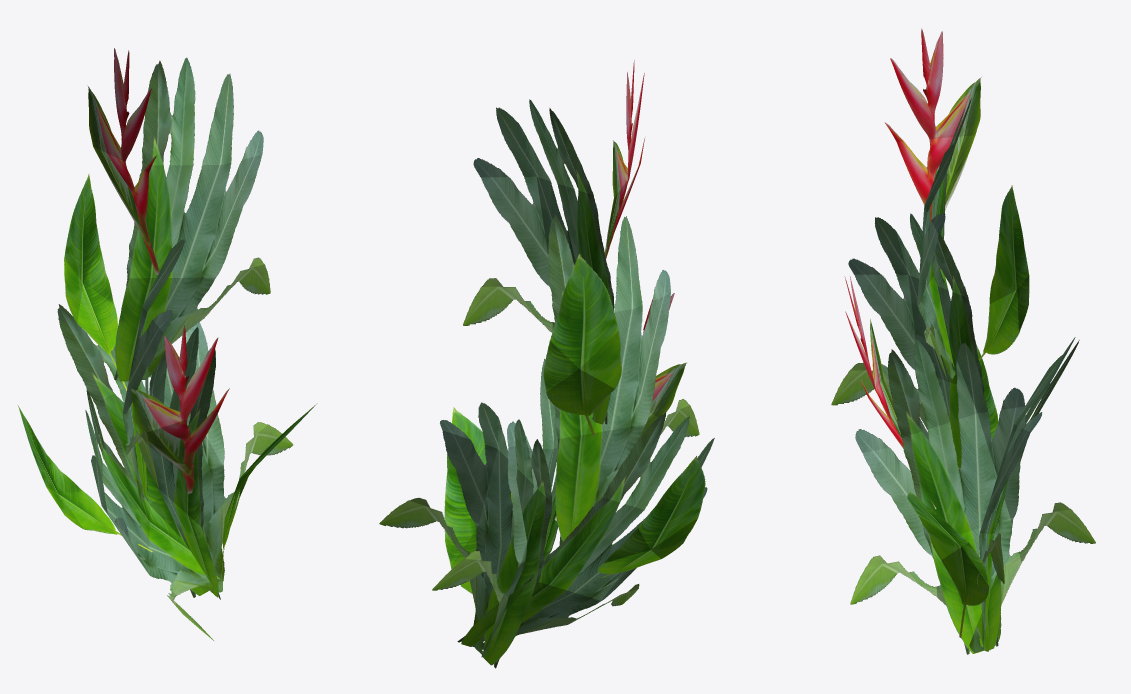
File: Heliconias.fbx
3 views of the same model, side by side, from view 1: azimuth 30°, elevation 25°; view 2: azimuth 150°, elevation 25°; view 3: azimuth 270°, elevation 25° (orthographic). The views are drawn at different scales.
Parts seen in each view (by area): view 1: Plane.009; view 2: Plane.009; view 3: Plane.009.
Part boxes in pixels (bbox=[...]): Plane.009: bbox=[18, 48, 317, 640]; Plane.009: bbox=[379, 60, 714, 668]; Plane.009: bbox=[831, 28, 1095, 654].
Bounding box in the file's own units: 121 × 224 × 106.
